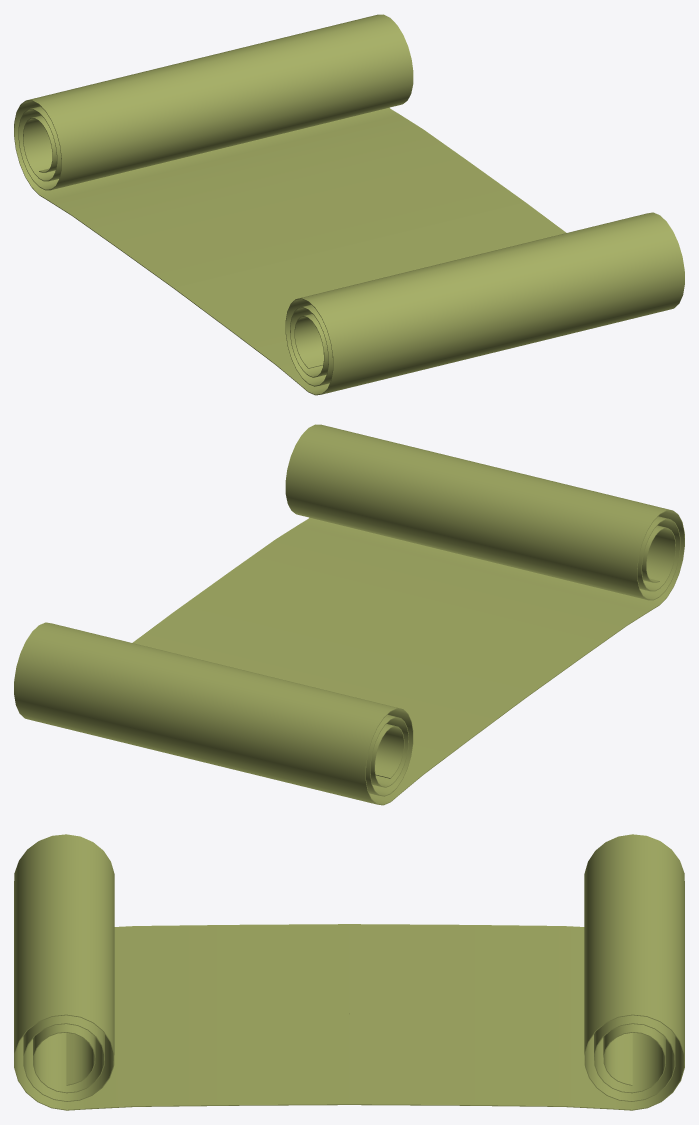
Rendered from jam harita.fbx.
3 views of the same model, one above another, from view 1: azimuth 30°, elevation 25°; view 2: azimuth 150°, elevation 25°; view 3: azimuth 270°, elevation 25° (orthographic). The views are drawn at different scales.
Parts seen in each view (by area): view 1: Spiral.009; view 2: Spiral.009; view 3: Spiral.009.
Part boxes in pixels (<box>): Spiral.009: <box>14,14,684,395</box>; Spiral.009: <box>14,424,684,805</box>; Spiral.009: <box>14,834,684,1110</box>.
Bounding box in the file's own units: 271 × 67.35 × 426.
